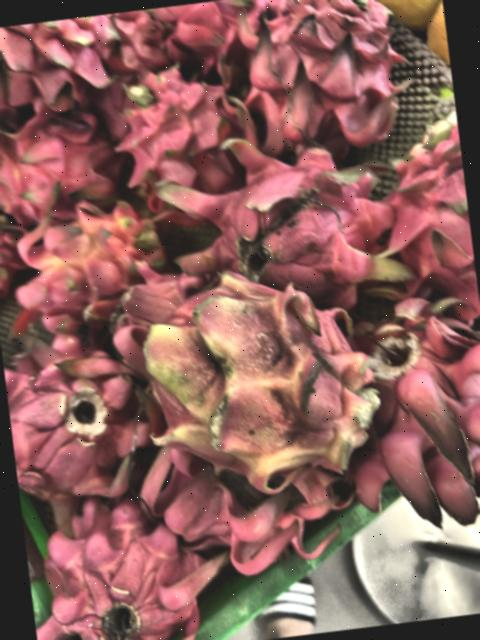buah-naga-belum-matang: (120, 257, 392, 498), (8, 188, 172, 322)
buah-naga-matang: (174, 120, 400, 320), (133, 429, 366, 575), (22, 483, 231, 640), (0, 320, 162, 520), (346, 285, 480, 525), (239, 0, 420, 164), (368, 99, 479, 313), (109, 62, 247, 204), (0, 100, 120, 228), (0, 12, 135, 112)
